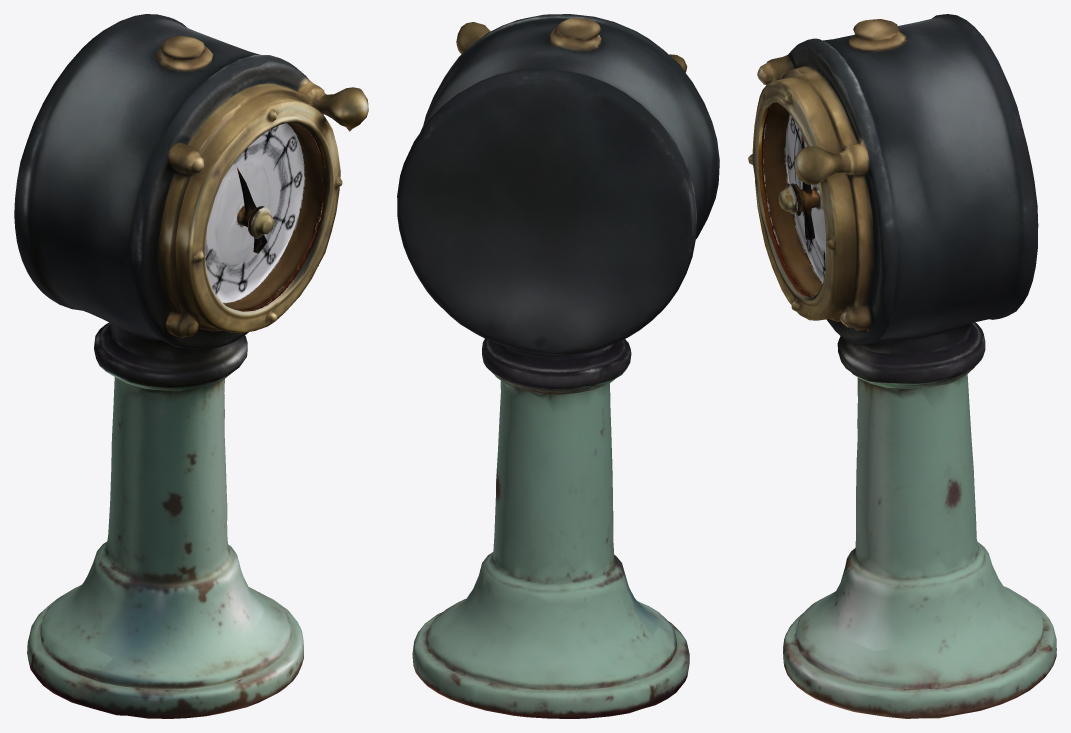
The model's file is gyro.fbx.
3 renders of one model, left to right at view 1: azimuth 30°, elevation 25°; view 2: azimuth 150°, elevation 25°; view 3: azimuth 270°, elevation 25°, orthographic.
Visible parts, largest first — view 1: Mesh_0.001; view 2: Mesh_0.001; view 3: Mesh_0.001.
Part boxes in pixels (bbox=[...]): Mesh_0.001: bbox=[14, 14, 368, 718]; Mesh_0.001: bbox=[397, 14, 719, 718]; Mesh_0.001: bbox=[748, 14, 1056, 718].
Bounding box in the file's own units: 0.4246 × 0.8855 × 0.3866.
1 material, 1 textured.
